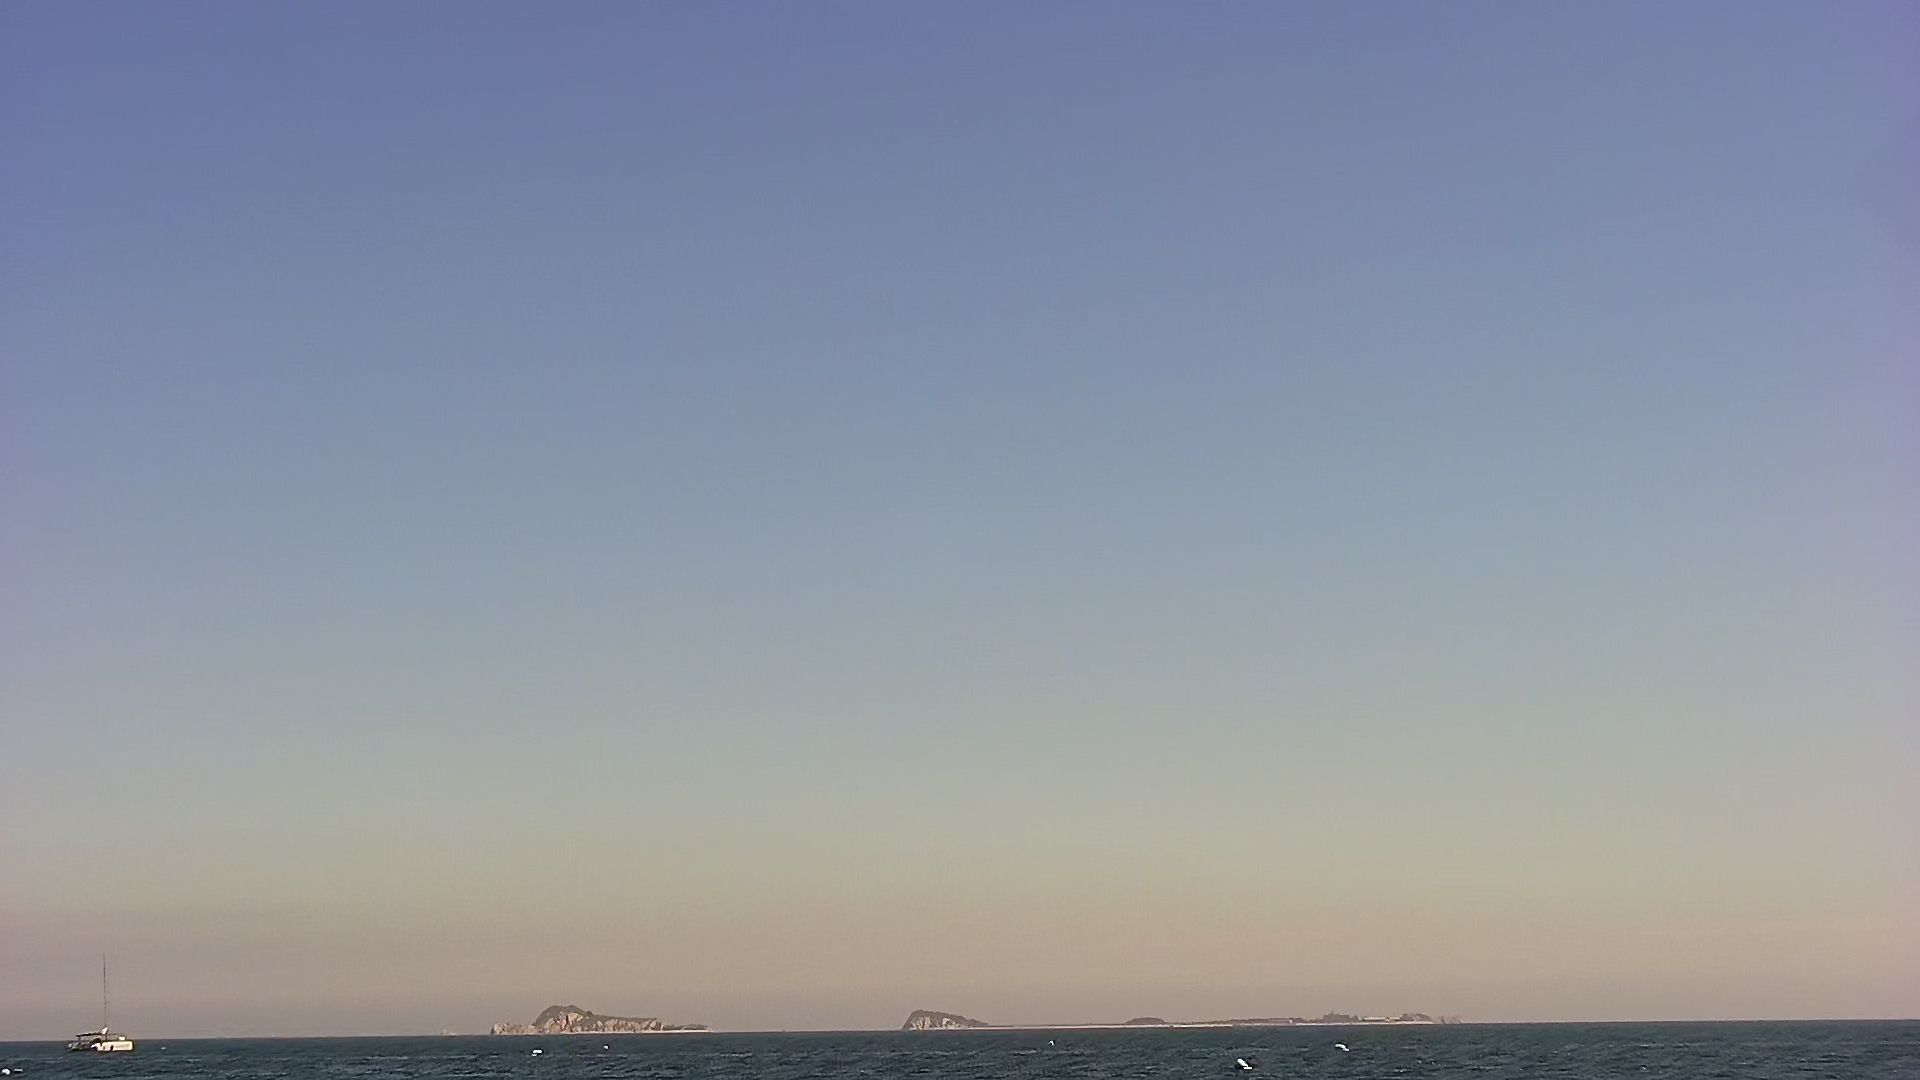boat: (67, 948, 146, 1056)
rock: (485, 1004, 713, 1036), (895, 1007, 996, 1034), (1126, 1010, 1178, 1027)
rubbish: (1335, 1027, 1354, 1055), (1230, 1055, 1261, 1071)
